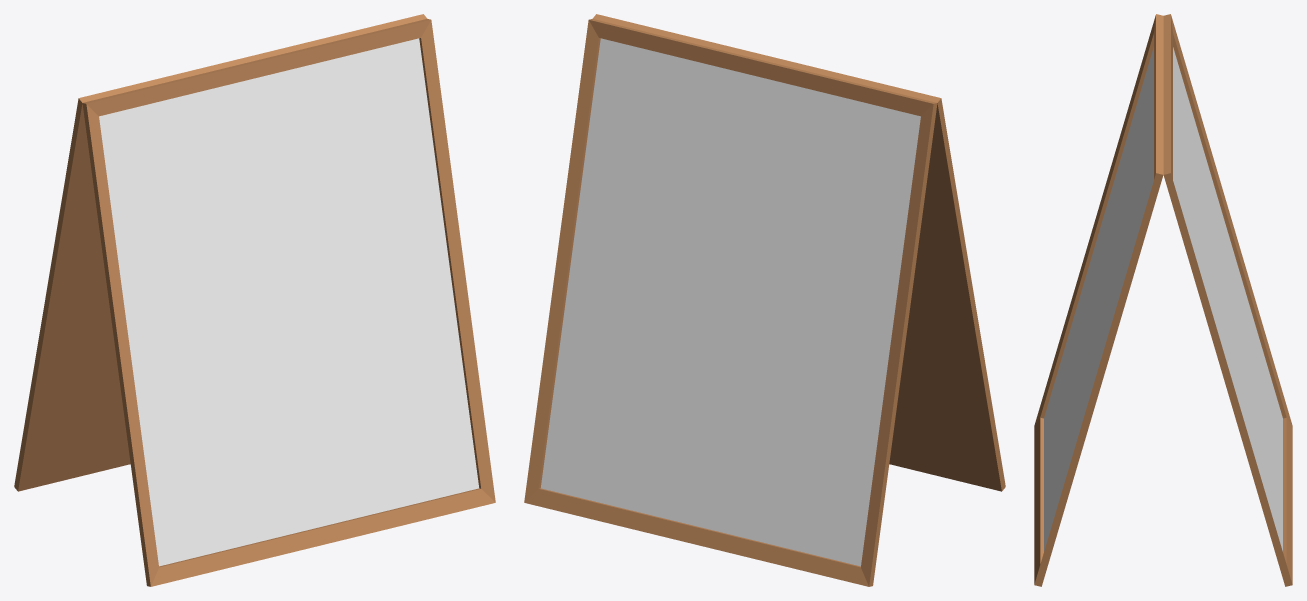
Rendered from NeckSign2.fbx.
3 renders of one model, left to right at view 1: azimuth 30°, elevation 25°; view 2: azimuth 150°, elevation 25°; view 3: azimuth 270°, elevation 25°, orthographic. The views are drawn at different scales.
Visible parts, largest first — view 1: NeckSign2; view 2: NeckSign2; view 3: NeckSign2.
Boxes of the visible parts, x1,y1,x2,y2 form: NeckSign2: [14, 14, 495, 586]; NeckSign2: [524, 14, 1005, 586]; NeckSign2: [1034, 14, 1292, 586].
Size of the model in its own units: 160 by 194 by 110.
